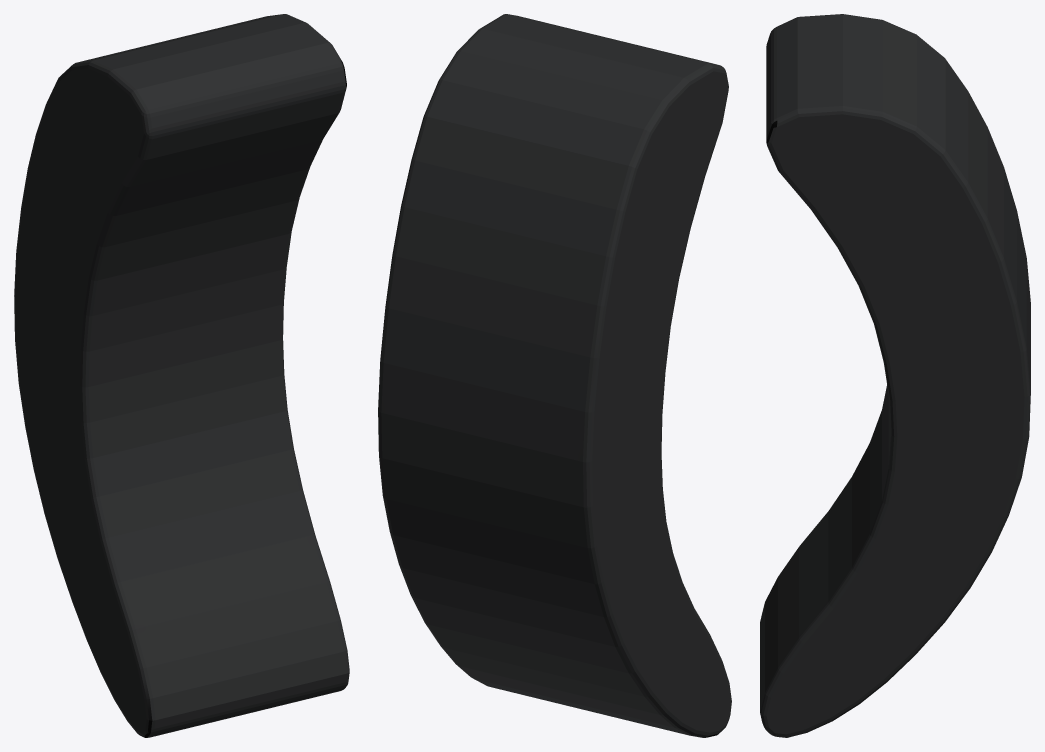
File: SM_M590_Trigger.fbx
3 views of the same model, side by side, from view 1: azimuth 30°, elevation 25°; view 2: azimuth 150°, elevation 25°; view 3: azimuth 270°, elevation 25° (orthographic). The views are drawn at different scales.
Visible parts, largest first — view 1: SM_M590_Trigger; view 2: SM_M590_Trigger; view 3: SM_M590_Trigger.
Part boxes in pixels (x1,y1,x2,y2): SM_M590_Trigger: (14,14,349,737); SM_M590_Trigger: (378,14,731,737); SM_M590_Trigger: (760,14,1030,737).
Size of the model in its own units: 0.76 by 0.8993 by 2.31.
